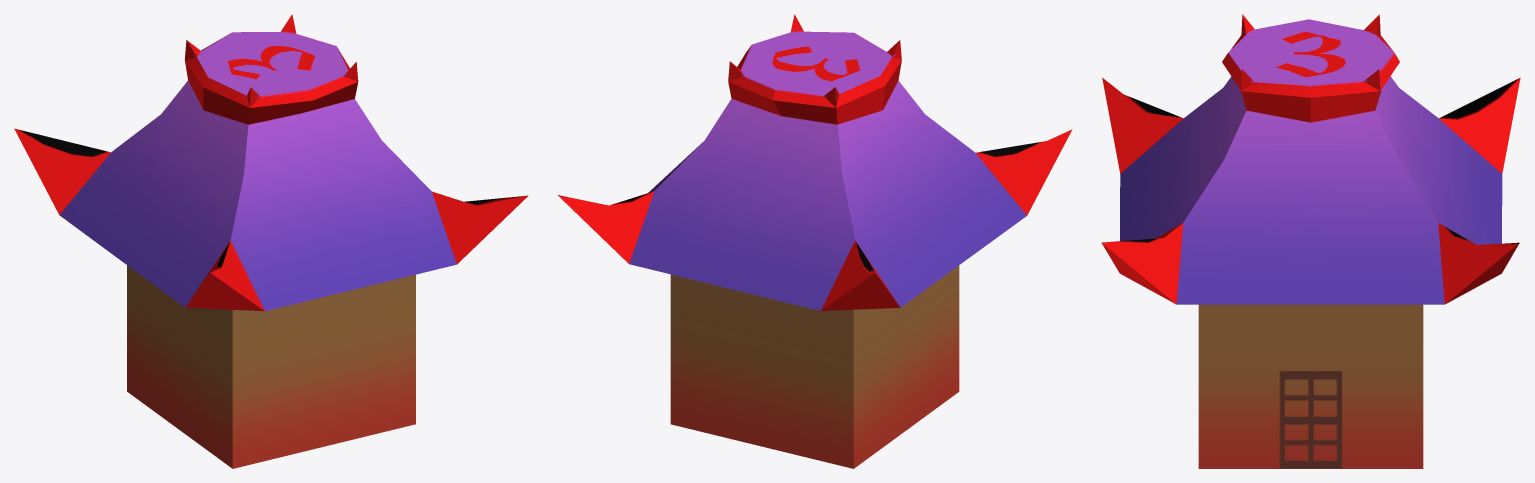
File: house tier 3.fbx
3 renders of one model, left to right at view 1: azimuth 30°, elevation 25°; view 2: azimuth 150°, elevation 25°; view 3: azimuth 270°, elevation 25°, orthographic. The views are drawn at different scales.
Parts seen in each view (by area): view 1: house tier 3; view 2: house tier 3; view 3: house tier 3.
Boxes of the visible parts, x1,y1,x2,y2 form: house tier 3: (14, 14, 528, 468); house tier 3: (558, 14, 1072, 468); house tier 3: (1102, 14, 1520, 468).
Bounding box in the file's own units: 548 × 587 × 587.
